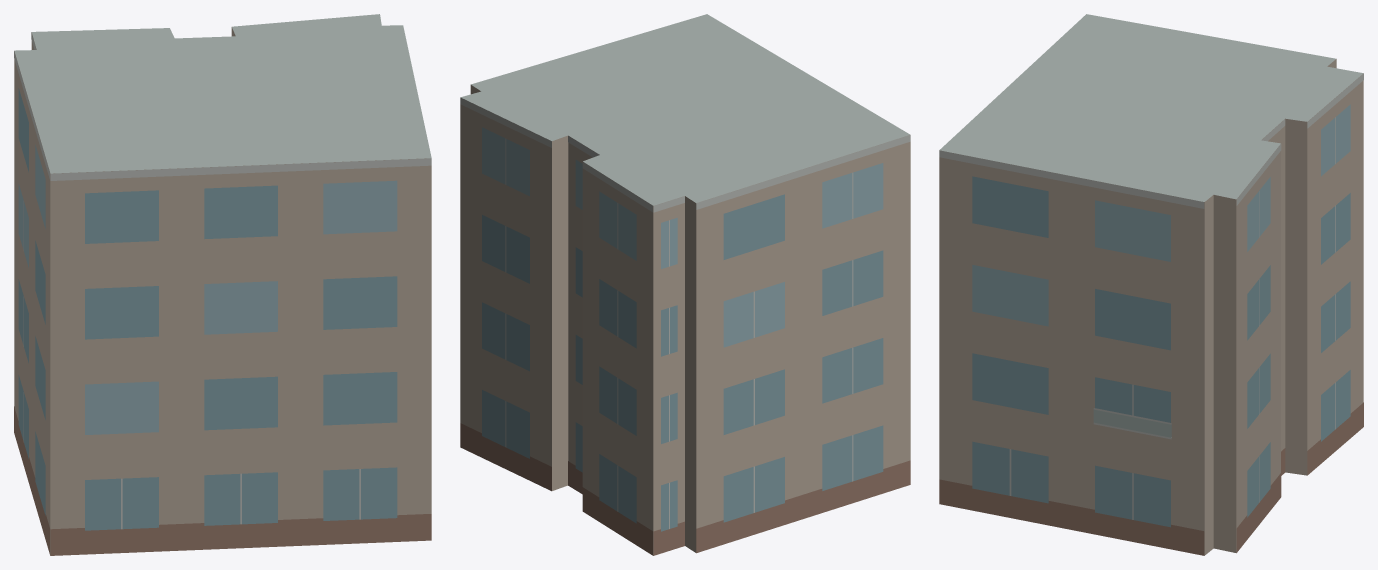
The model's file is survey-upis-32668610.glb.
3 views of the same model, side by side, from view 1: azimuth 30°, elevation 25°; view 2: azimuth 150°, elevation 25°; view 3: azimuth 270°, elevation 25° (orthographic). The views are drawn at different scales.
Parts seen in each view (by area): view 1: survey-upis-32668610.tmp; view 2: survey-upis-32668610.tmp; view 3: survey-upis-32668610.tmp.
Part boxes in pixels (x1,y1,x2,y2): survey-upis-32668610.tmp: (14, 14, 431, 555); survey-upis-32668610.tmp: (460, 14, 910, 555); survey-upis-32668610.tmp: (939, 14, 1363, 555).
Bounding box in the file's own units: 14.15 × 12.4 × 13.5.
